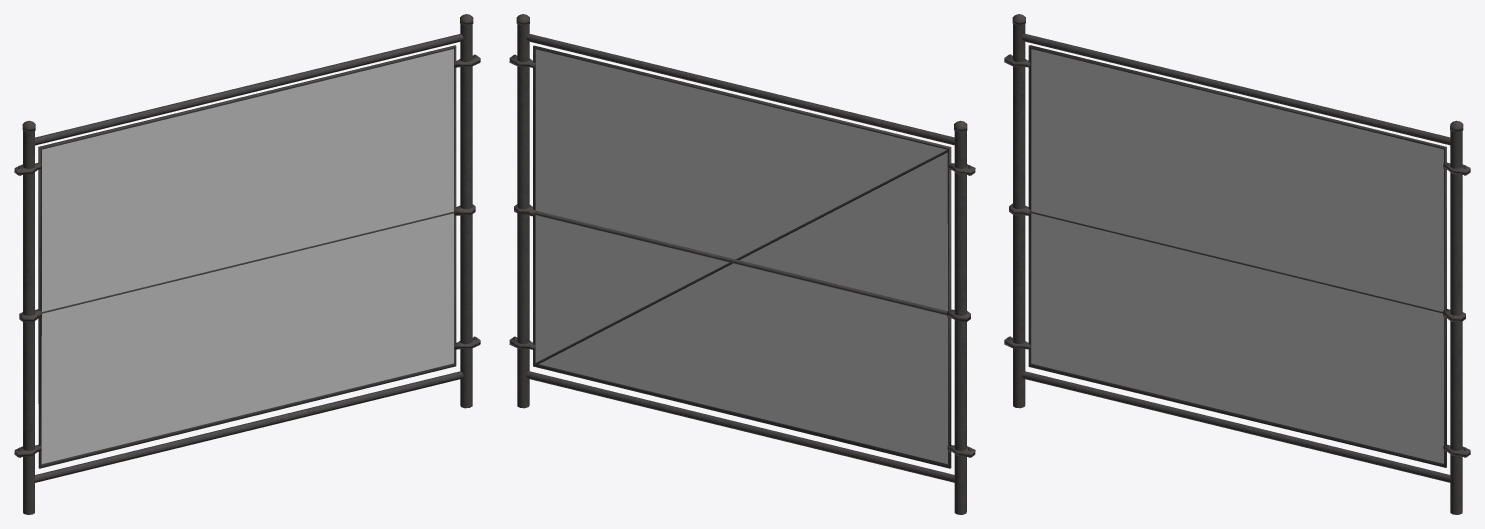
The model's file is Fence_sm.FBX.
3 views of the same model, side by side, from view 1: azimuth 30°, elevation 25°; view 2: azimuth 150°, elevation 25°; view 3: azimuth 330°, elevation 25° (orthographic).
Visible parts, largest first — view 1: Fence_sm; view 2: Fence_sm; view 3: Fence_sm.
Part boxes in pixels (<box>): Fence_sm: <box>14,14,480,514</box>; Fence_sm: <box>509,14,975,514</box>; Fence_sm: <box>1004,14,1470,514</box>.
Size of what is drawn, in the model's own units: 443 by 14.61 by 358.
